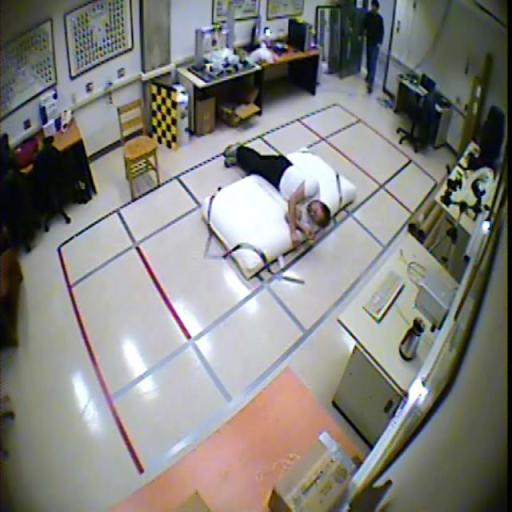Fall: (223, 142, 331, 247)
